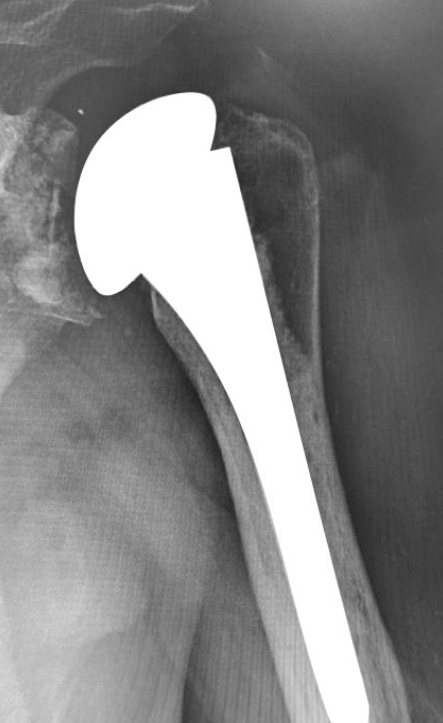Shoulder - Anotomical - Stryker: (51, 85, 278, 310)
